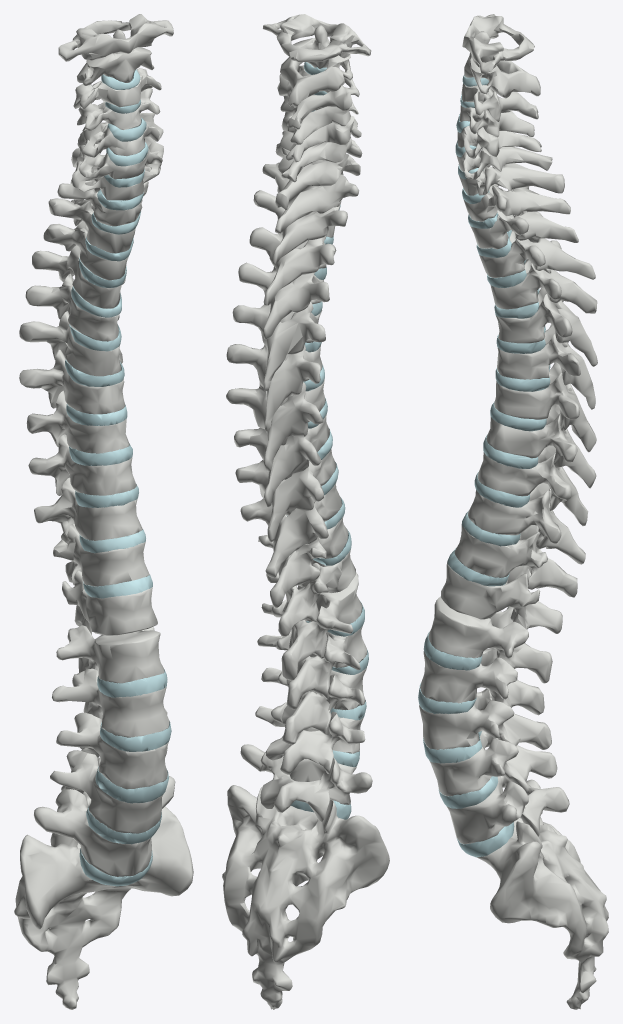
File: columna.glb
3 renders of one model, left to right at view 1: azimuth 30°, elevation 25°; view 2: azimuth 150°, elevation 25°; view 3: azimuth 270°, elevation 25°, orthographic. The views are drawn at different scales.
Parts seen in each view (by area): view 1: sacro, vertebra_l5, vertebra_l1, vertebra_l2, vertebra_l3, vertebra_l4, vertebra_t12, vertebra_t10, vertebra_t11, vertebra_t9, vertebra_c1, vertebra_t7 (+32 smaller); view 2: sacro, vertebra_l5, vertebra_l1, vertebra_l4, vertebra_t7, vertebra_l3, vertebra_l2, vertebra_t10, vertebra_t9, vertebra_t5, vertebra_t6, vertebra_t8 (+13 smaller); view 3: sacro, vertebra_l1, vertebra_l3, vertebra_l2, vertebra_t12, vertebra_l5, vertebra_l4, vertebra_t11, vertebra_t10, vertebra_t9, vertebra_t7, vertebra_t8 (+26 smaller).
Boxes of the visible parts, x1,y1,x2,y2 form: sacro: (14,806,193,1009); vertebra_l5: (34,776,175,876); vertebra_l1: (56,625,164,683); vertebra_l2: (52,668,169,737); vertebra_l3: (56,708,168,788); vertebra_l4: (50,747,167,833); vertebra_t12: (62,570,157,635); vertebra_t10: (34,477,142,543); vertebra_t11: (53,523,149,586); vertebra_t9: (28,434,136,495); vertebra_c1: (58,14,173,61); vertebra_t7: (19,349,124,414); sacro: (222,785,389,1009); vertebra_l5: (240,744,372,822); vertebra_l1: (261,572,362,680); vertebra_l4: (255,702,365,774); vertebra_t7: (226,378,325,471); vertebra_l3: (261,667,366,744); vertebra_l2: (257,625,367,709); vertebra_t10: (240,482,341,577); vertebra_t9: (235,449,336,542); vertebra_t5: (232,302,325,391); vertebra_t6: (226,344,322,431); vertebra_t8: (234,414,329,507); sacro: (477,779,608,1009); vertebra_l1: (428,596,552,683); vertebra_l3: (419,688,551,749); vertebra_l2: (420,648,544,715); vertebra_t12: (441,561,562,633); vertebra_l5: (446,775,569,844); vertebra_l4: (429,731,557,796); vertebra_t11: (454,524,577,597); vertebra_t10: (467,483,585,564); vertebra_t9: (477,445,588,525); vertebra_t7: (494,363,596,452); vertebra_t8: (486,405,596,488).
Bounding box in the file's own units: 0.1176 × 0.6986 × 0.123.
